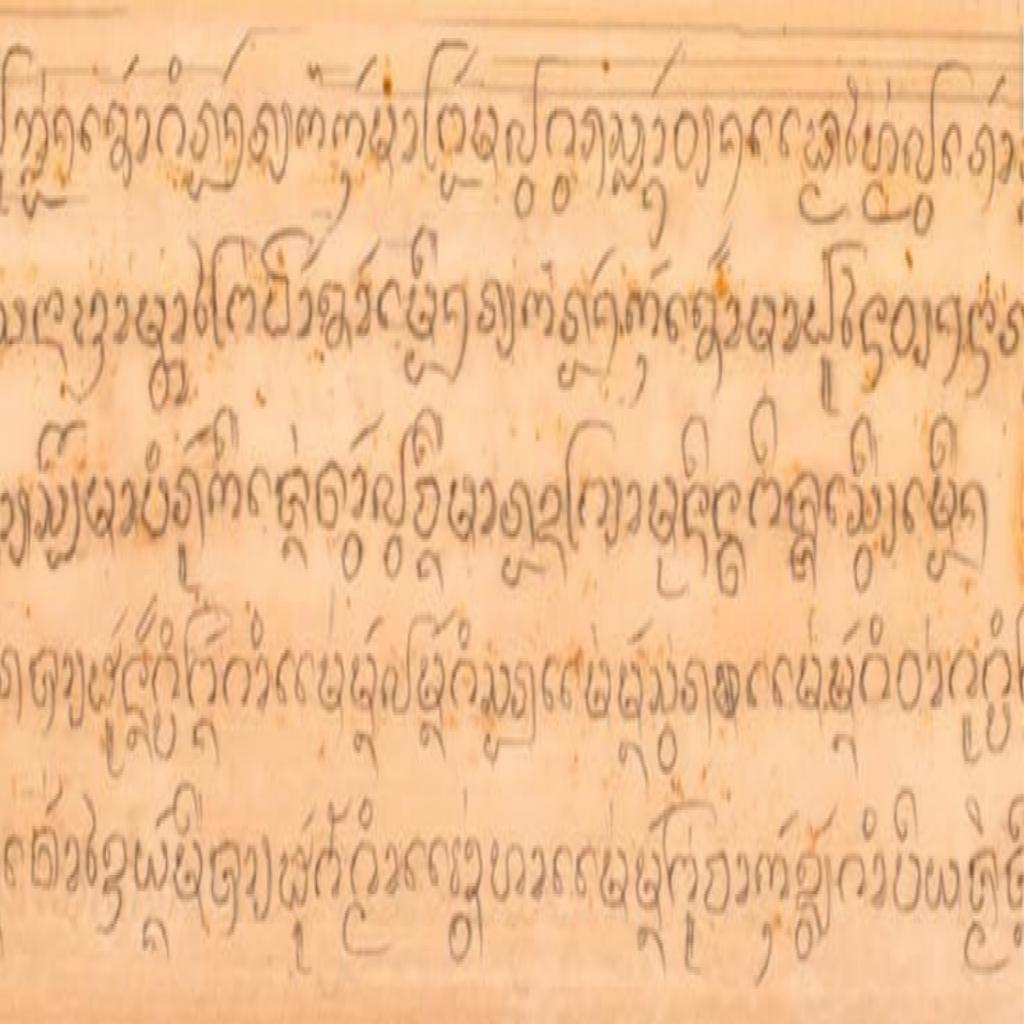LN006: (703, 845, 734, 923)
LN035: (895, 645, 926, 721)
